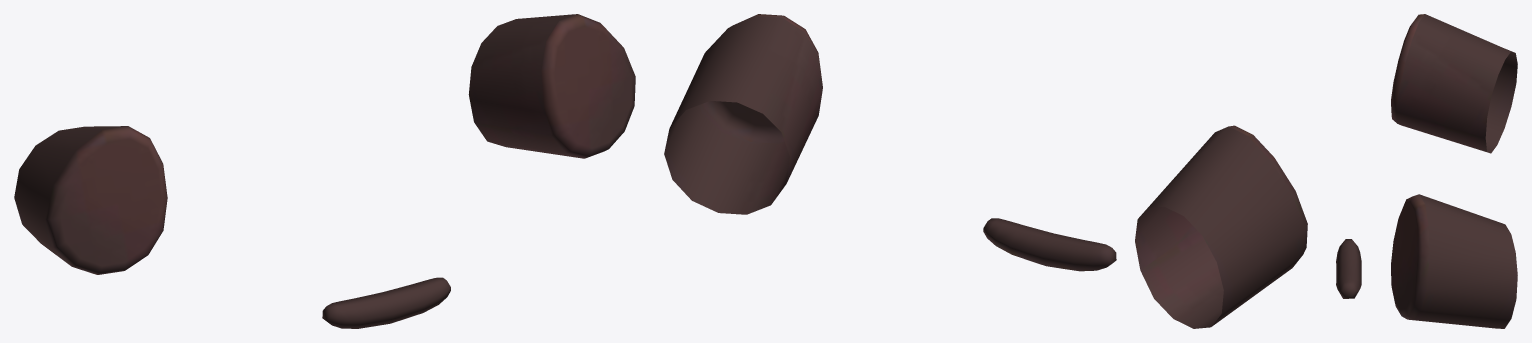
Rendered from Mushroom Face.fbx.
The picture shows the model from 3 angles, left to right: view 1: azimuth 30°, elevation 25°; view 2: azimuth 150°, elevation 25°; view 3: azimuth 270°, elevation 25°; orthographic projection. The views are drawn at different scales.
Visible parts, largest first — view 1: Cube.016, Cube.017; view 2: Cube.016, Cube.017; view 3: Cube.016, Cube.017.
Part boxes in pixels (bbox=[...]): Cube.016: bbox=[14, 14, 635, 274]; Cube.017: bbox=[322, 277, 450, 328]; Cube.016: bbox=[664, 14, 1307, 328]; Cube.017: bbox=[983, 218, 1116, 271]; Cube.016: bbox=[1391, 14, 1517, 328]; Cube.017: bbox=[1336, 239, 1361, 298].
Size of the model in its own units: 87.55 by 30.73 by 28.6.
Materials: 2 (2 with a texture image).
